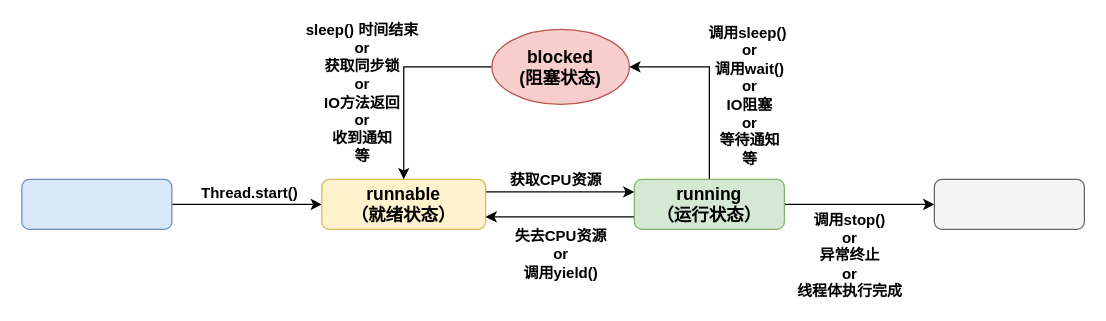
Some shapes in this 1106 by 321 pixel diagram are drawn without their labels. The shapes that lost their labels are listed below. From the top down, each one's box as (x1, y1, x2, y2) in pixels, then its label:
(21, 178, 172, 229): new （新建）
(933, 178, 1084, 229): dead （终止态）
